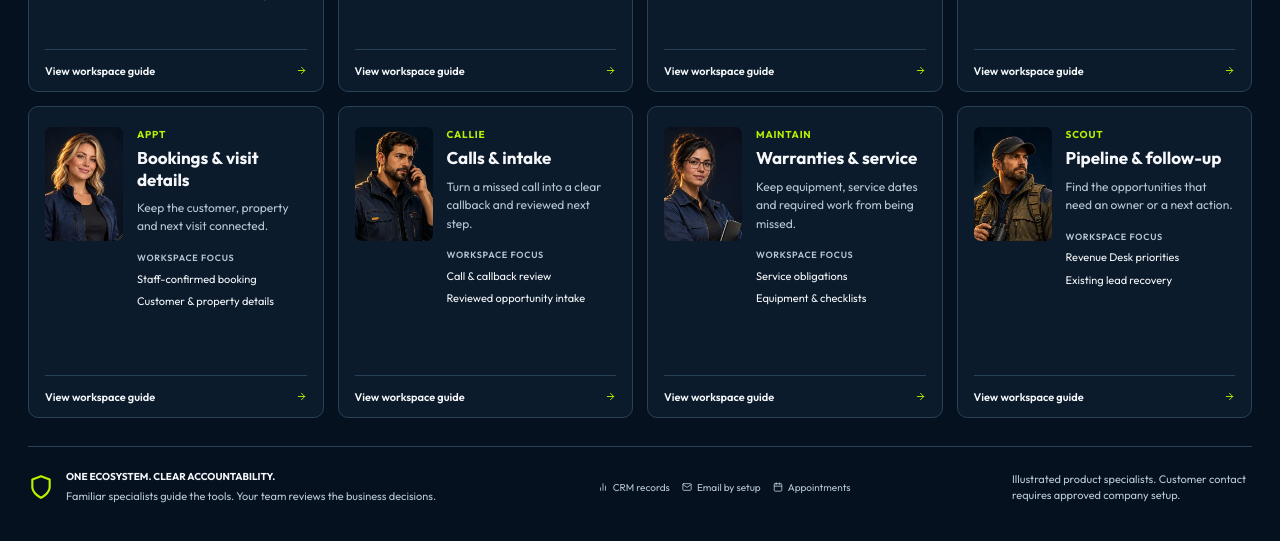
Test case: makes provider and customer-contact boundaries visible
(page scrolled)
Click the button with aria-label "View CALLIE" at coordinates (485, 262), box 338,106 -> 633,418
(page scrolled)
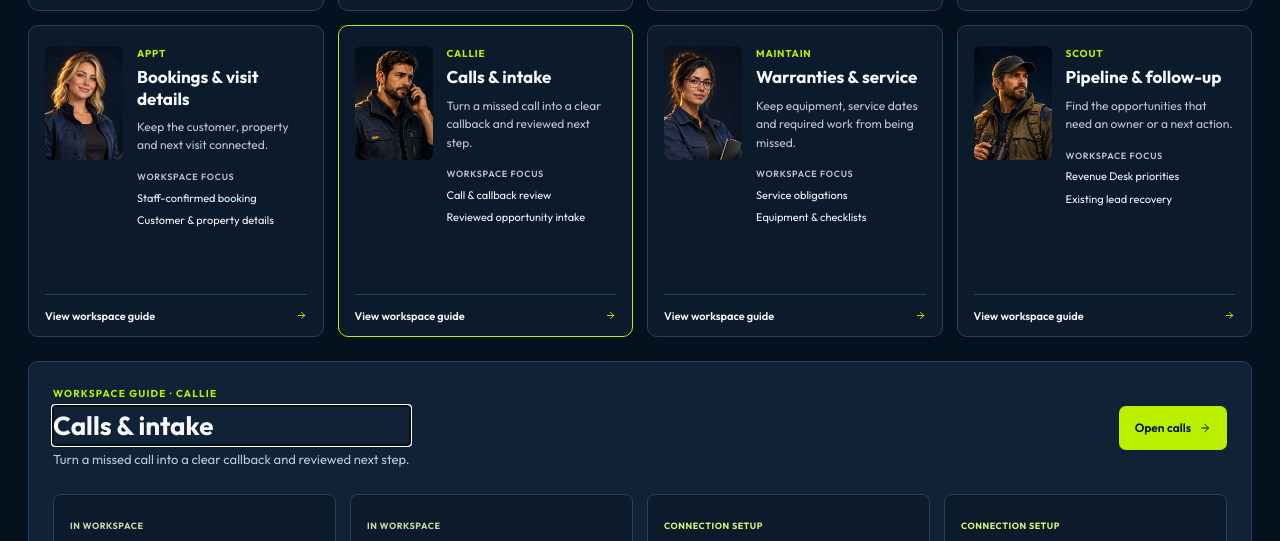
Click the button with aria-label "View MAINTAIN" at coordinates (795, 181), box 647,25 -> 942,337
(page scrolled)
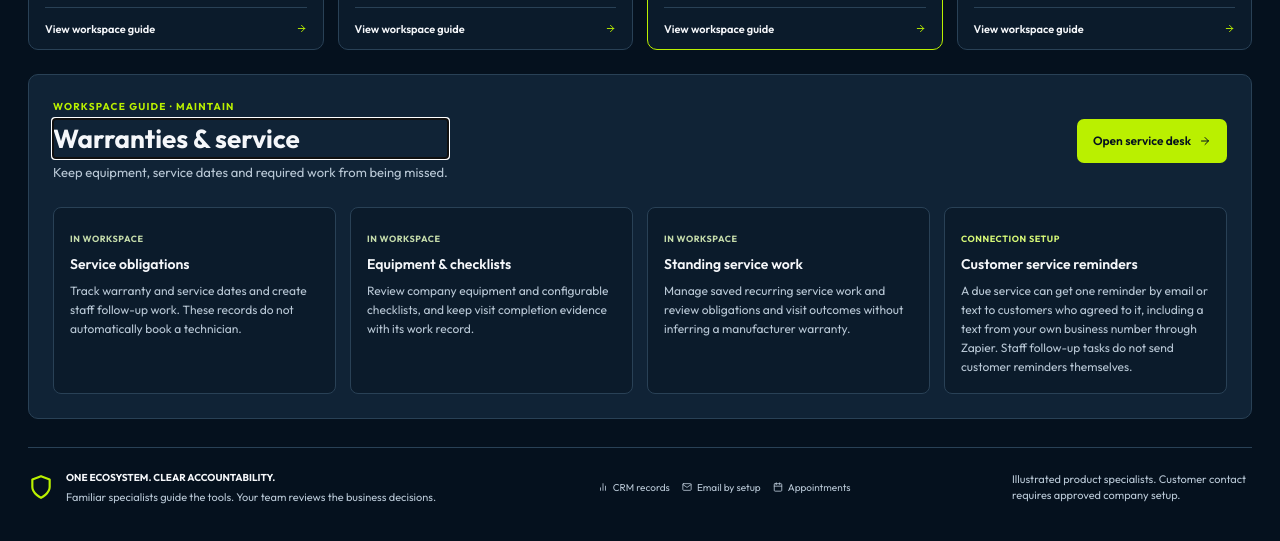
Expected: the text "Staff follow-up tasks do not send customer reminders" is shown, 961,283 -> 1208,374
